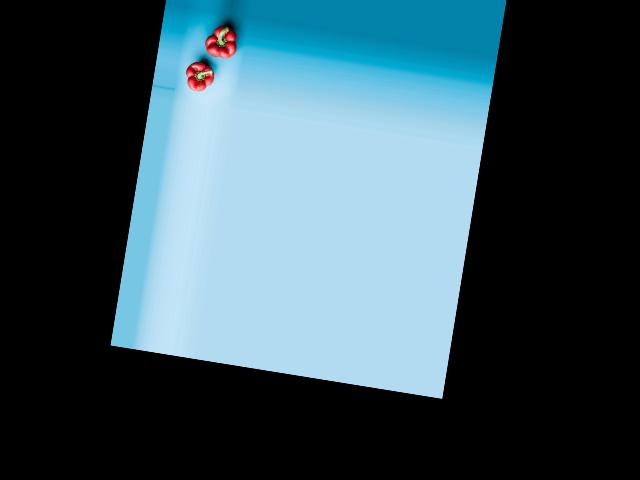bell_pepper: (198, 19, 239, 66)
